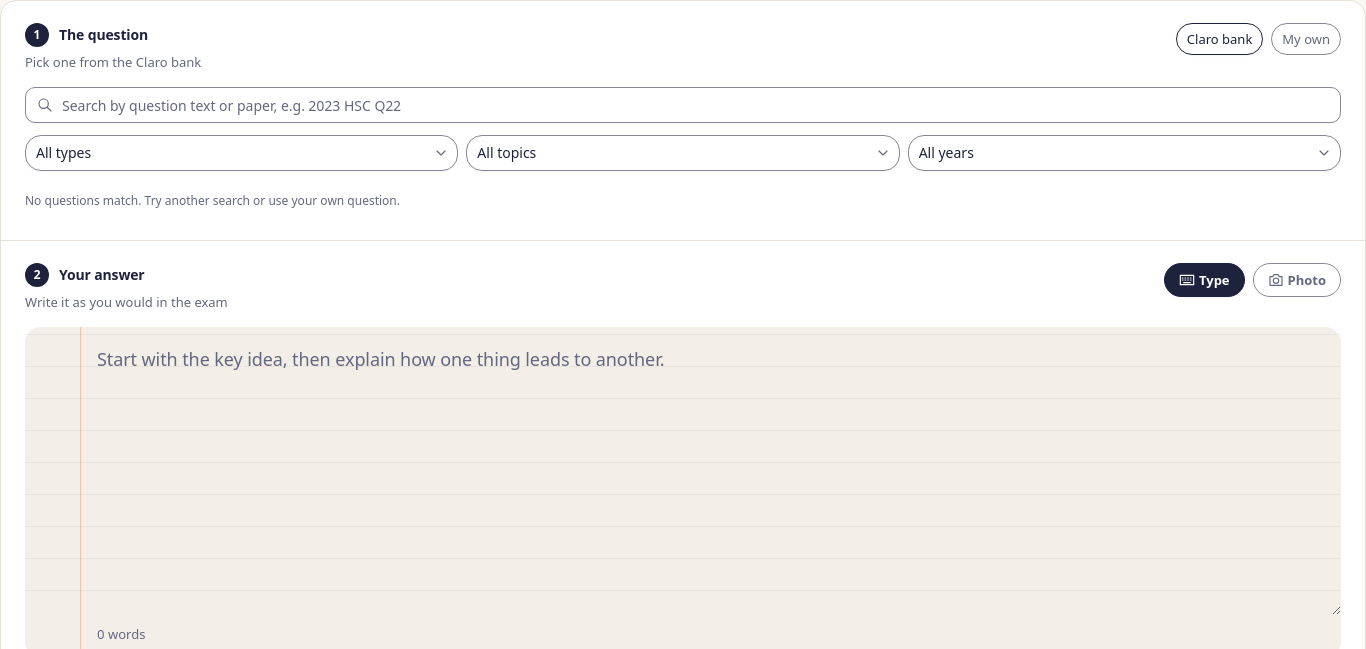
ignores responses for replaced questions
Step 1. Click the button with aria-label "My own question" → (1306, 39), box [1271,23,1341,55]
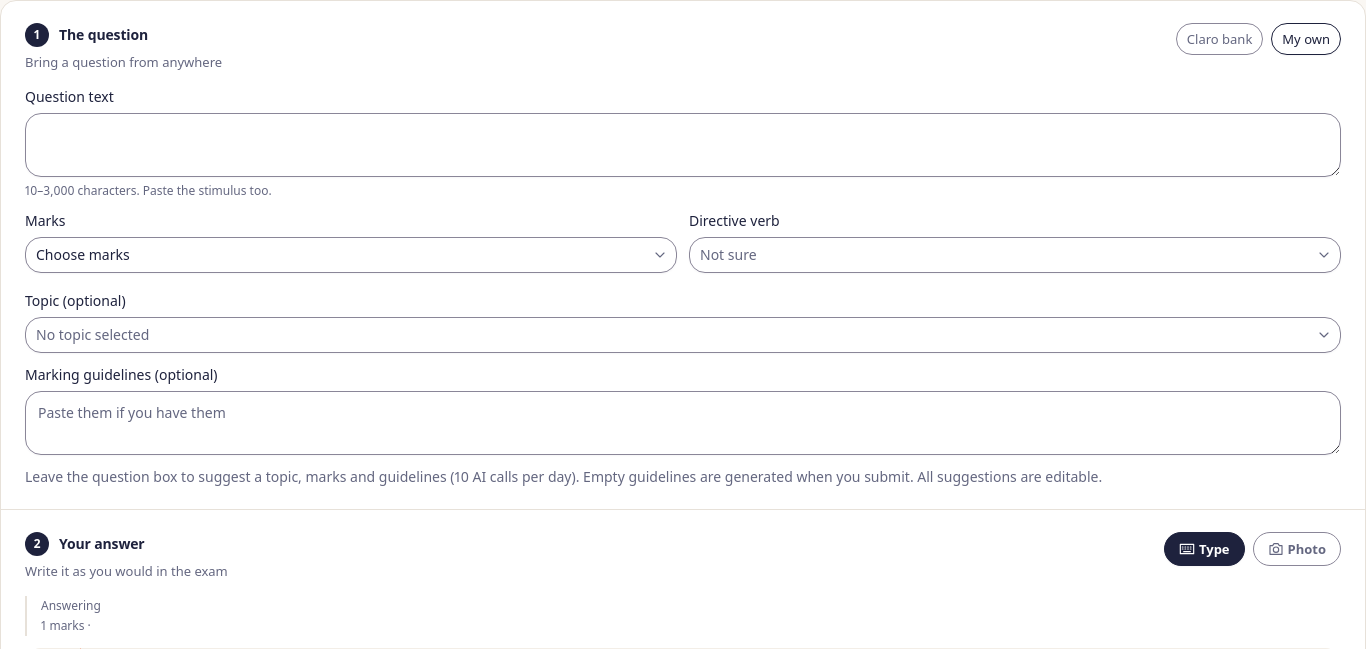
Step 2. Type "Explain inflation." into the text box labelled "Question text 10–3,000 characters. Paste the stimulus too." → (683, 145), box [25,113,1341,177]
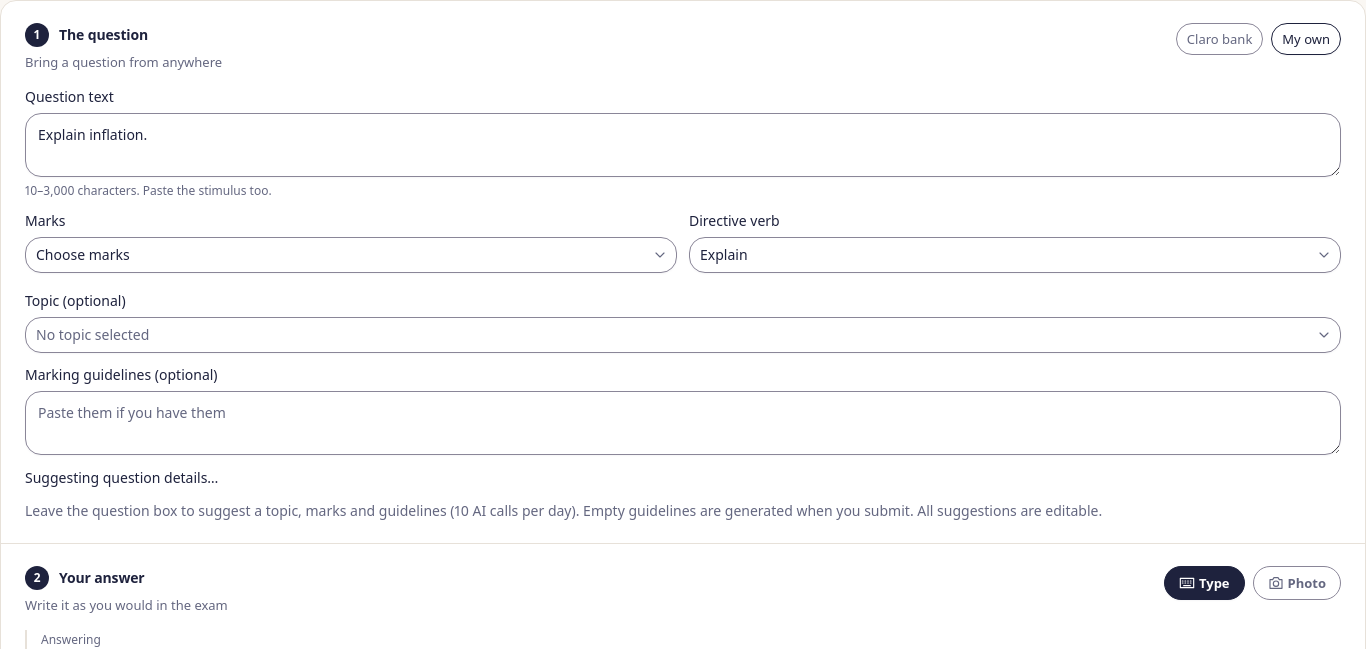
Step 3. Replace the text in the text box labelled "Question text 10–3,000 characters. Paste the stimulus too." with "Outline fiscal policy." → (683, 145), box [25,113,1341,177]
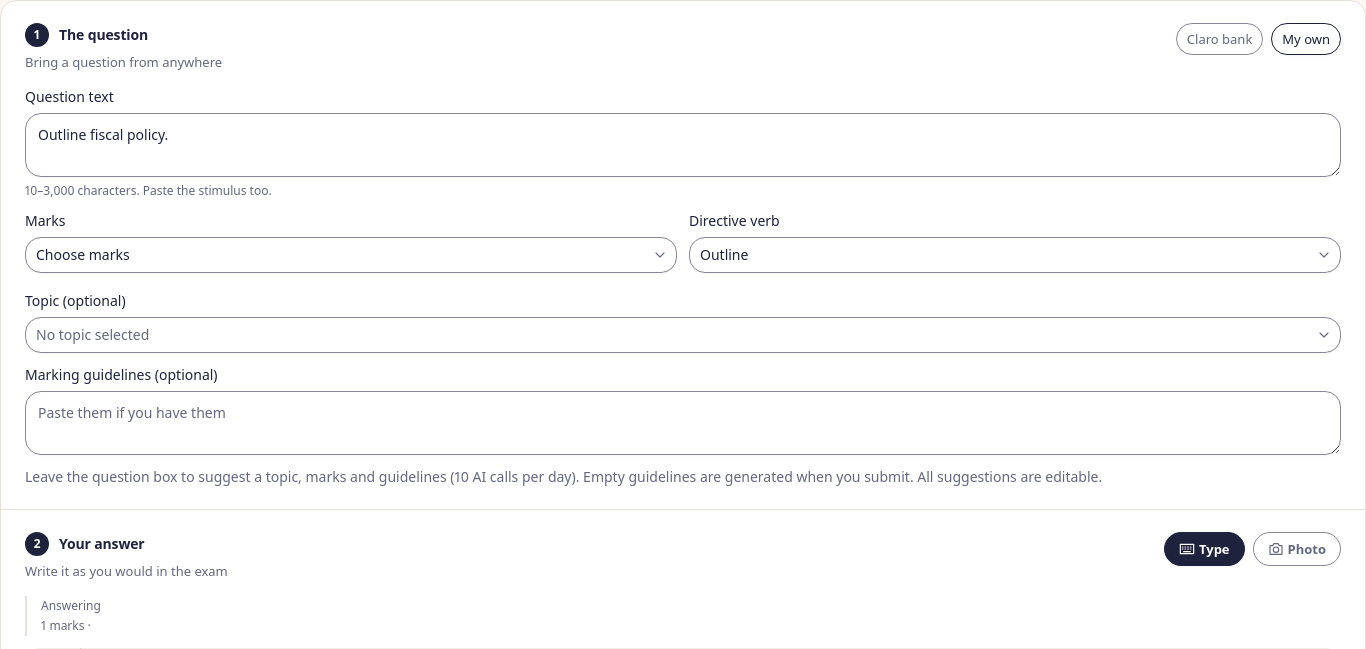
Now the text box labelled "Marking guidelines (optional)" is empty, box [25,391,1341,455]
Now the text "Suggesting question details…" is gone
